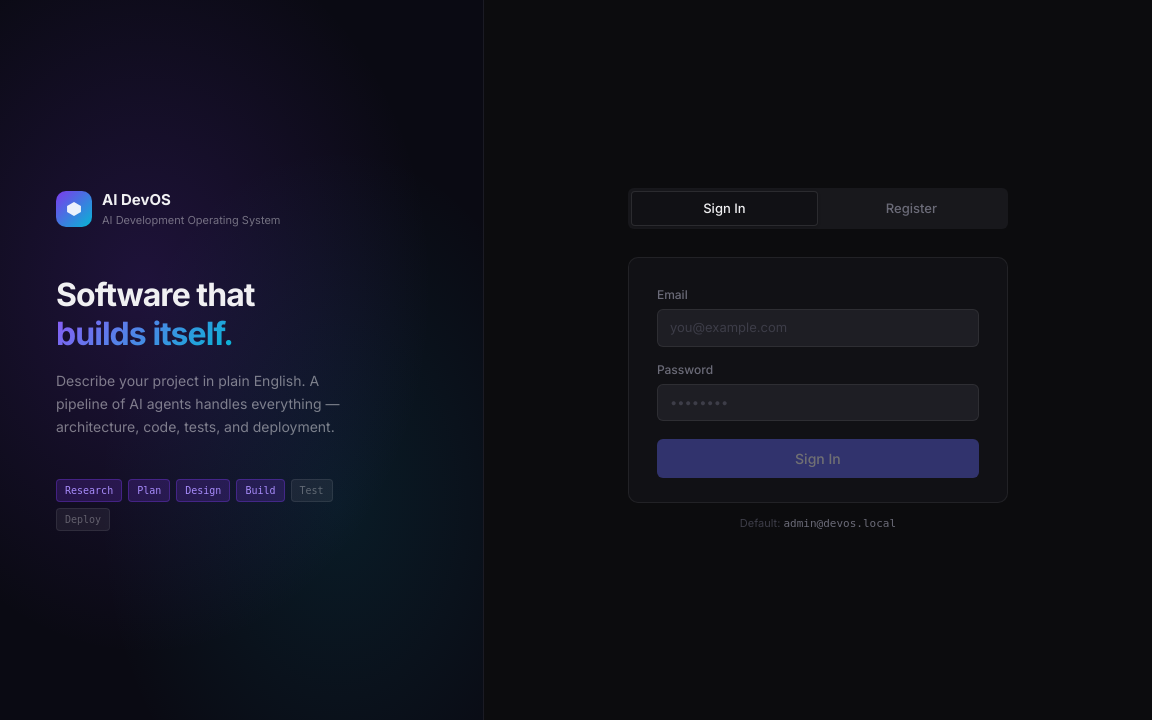
Scenario: LoginPage — sign-in mode › submit button enables after typing email and password
Type "dev@x.com" into the field with placeholder "you@example.com" at (818, 328), box [657,309,979,346]
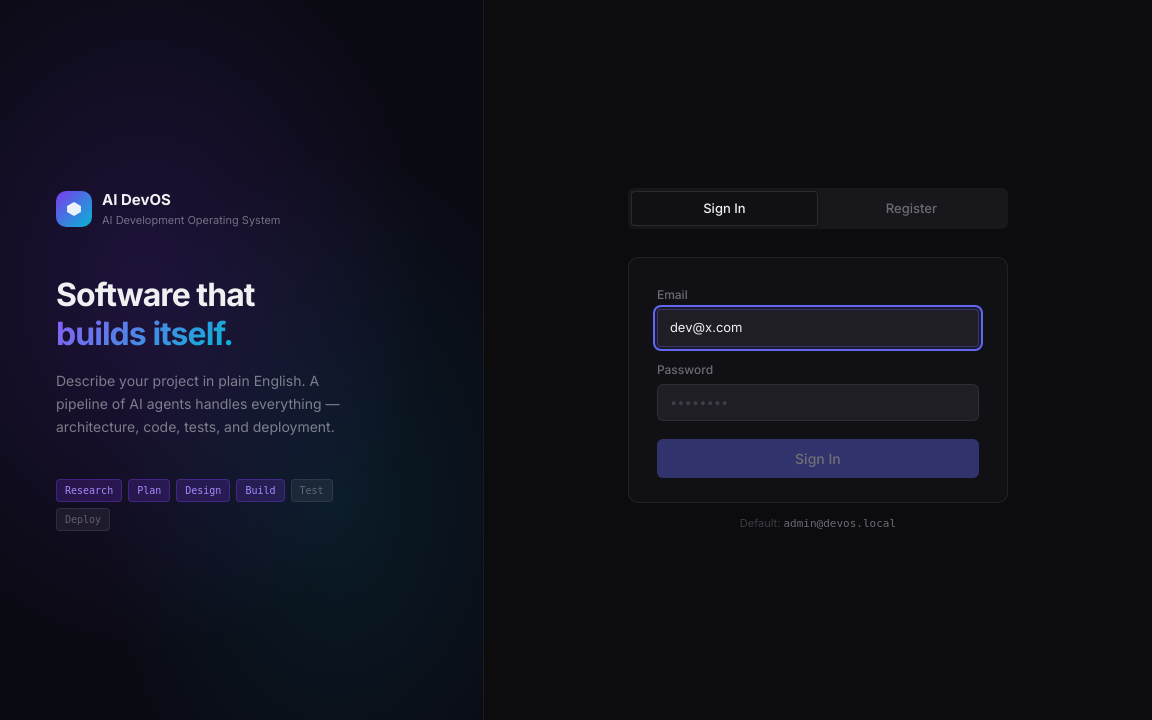
Type "pass1234" into the password field with placeholder "••••••••" at (818, 402), box [657,384,979,421]
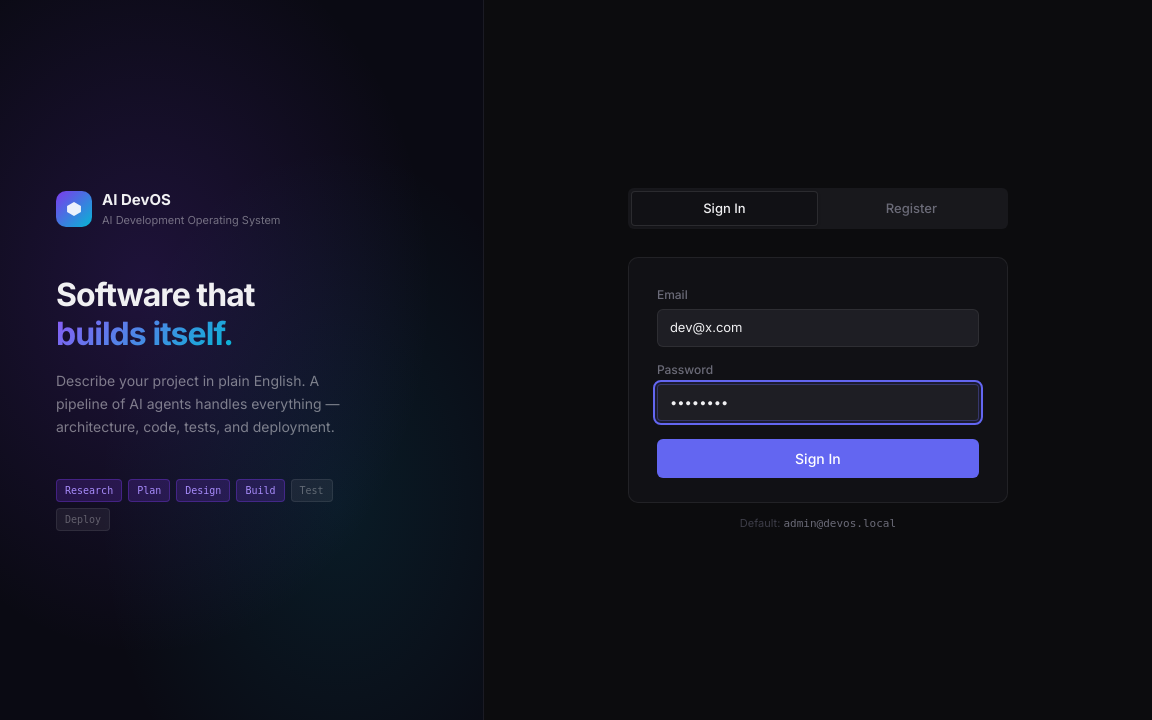
Expected: the button "Sign In" below "Password" is enabled, [657,439,979,478]
